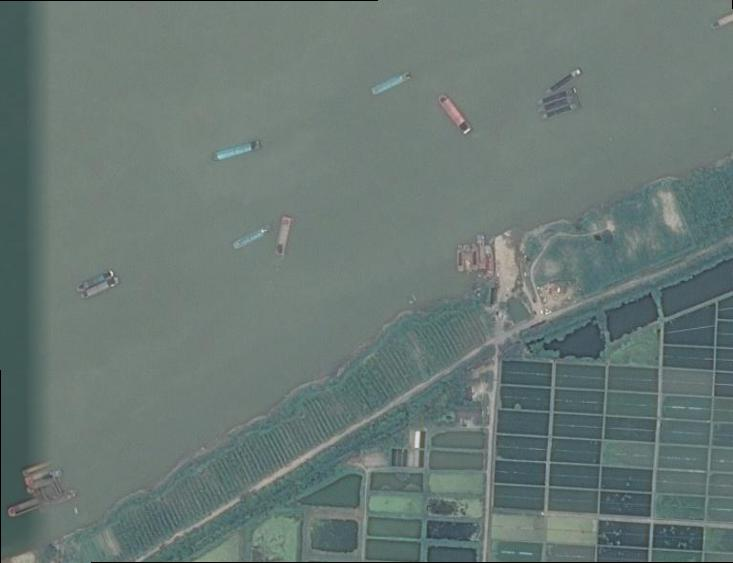ship: (438, 96, 472, 136), (214, 140, 262, 161), (371, 72, 413, 96), (546, 68, 583, 95), (233, 224, 272, 249), (81, 277, 119, 300), (78, 270, 114, 292), (540, 95, 579, 114), (538, 88, 578, 106), (276, 216, 293, 257), (543, 102, 581, 120), (25, 469, 59, 486), (44, 491, 76, 509), (21, 460, 54, 477), (8, 499, 39, 517), (27, 478, 59, 494), (477, 234, 486, 269), (487, 246, 495, 274), (457, 245, 464, 270), (465, 245, 472, 270), (472, 244, 477, 270)
